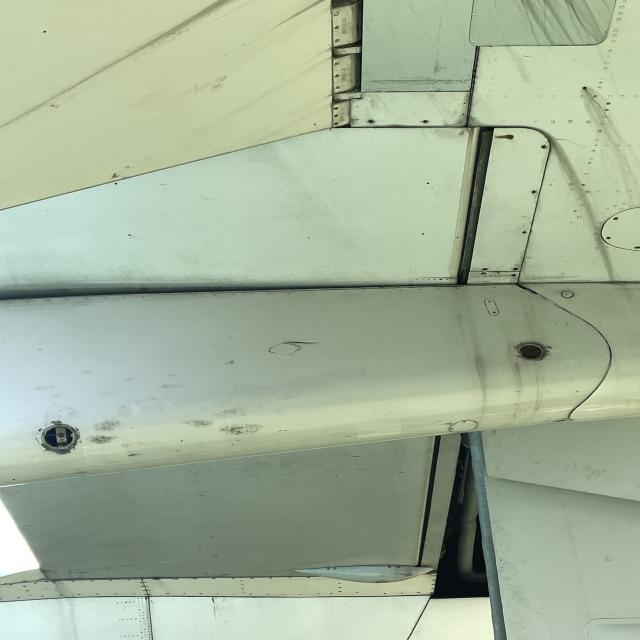crack: (289, 338, 333, 350)
